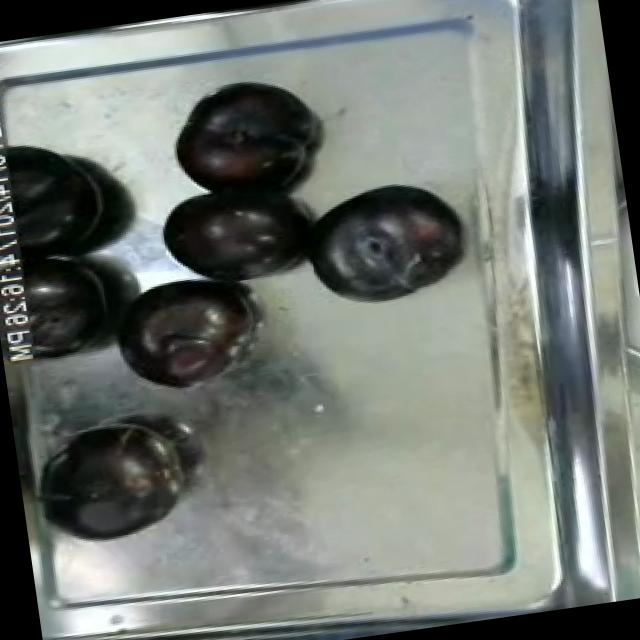Fruit: (27, 408, 195, 552), (305, 172, 474, 312), (104, 264, 270, 406), (160, 69, 326, 205), (144, 170, 321, 294), (0, 126, 120, 277)
